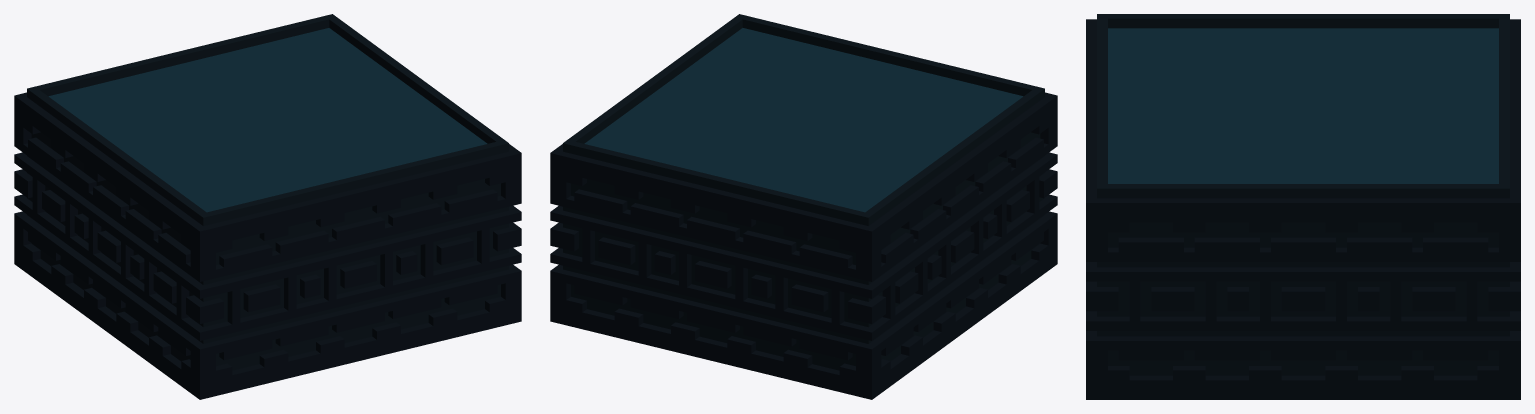
File: Block_Base_Single.obj
3 views of the same model, side by side, from view 1: azimuth 30°, elevation 25°; view 2: azimuth 150°, elevation 25°; view 3: azimuth 270°, elevation 25° (orthographic). The views are drawn at different scales.
Size of the model in its own units: 1 by 0.525 by 1.
